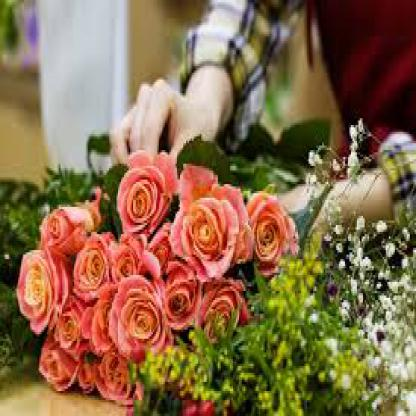Rose-Mawar: (18, 151, 293, 406)
